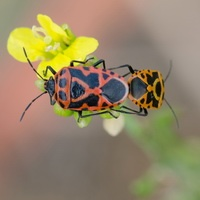insect: (20, 47, 147, 121), (129, 70, 159, 108)
